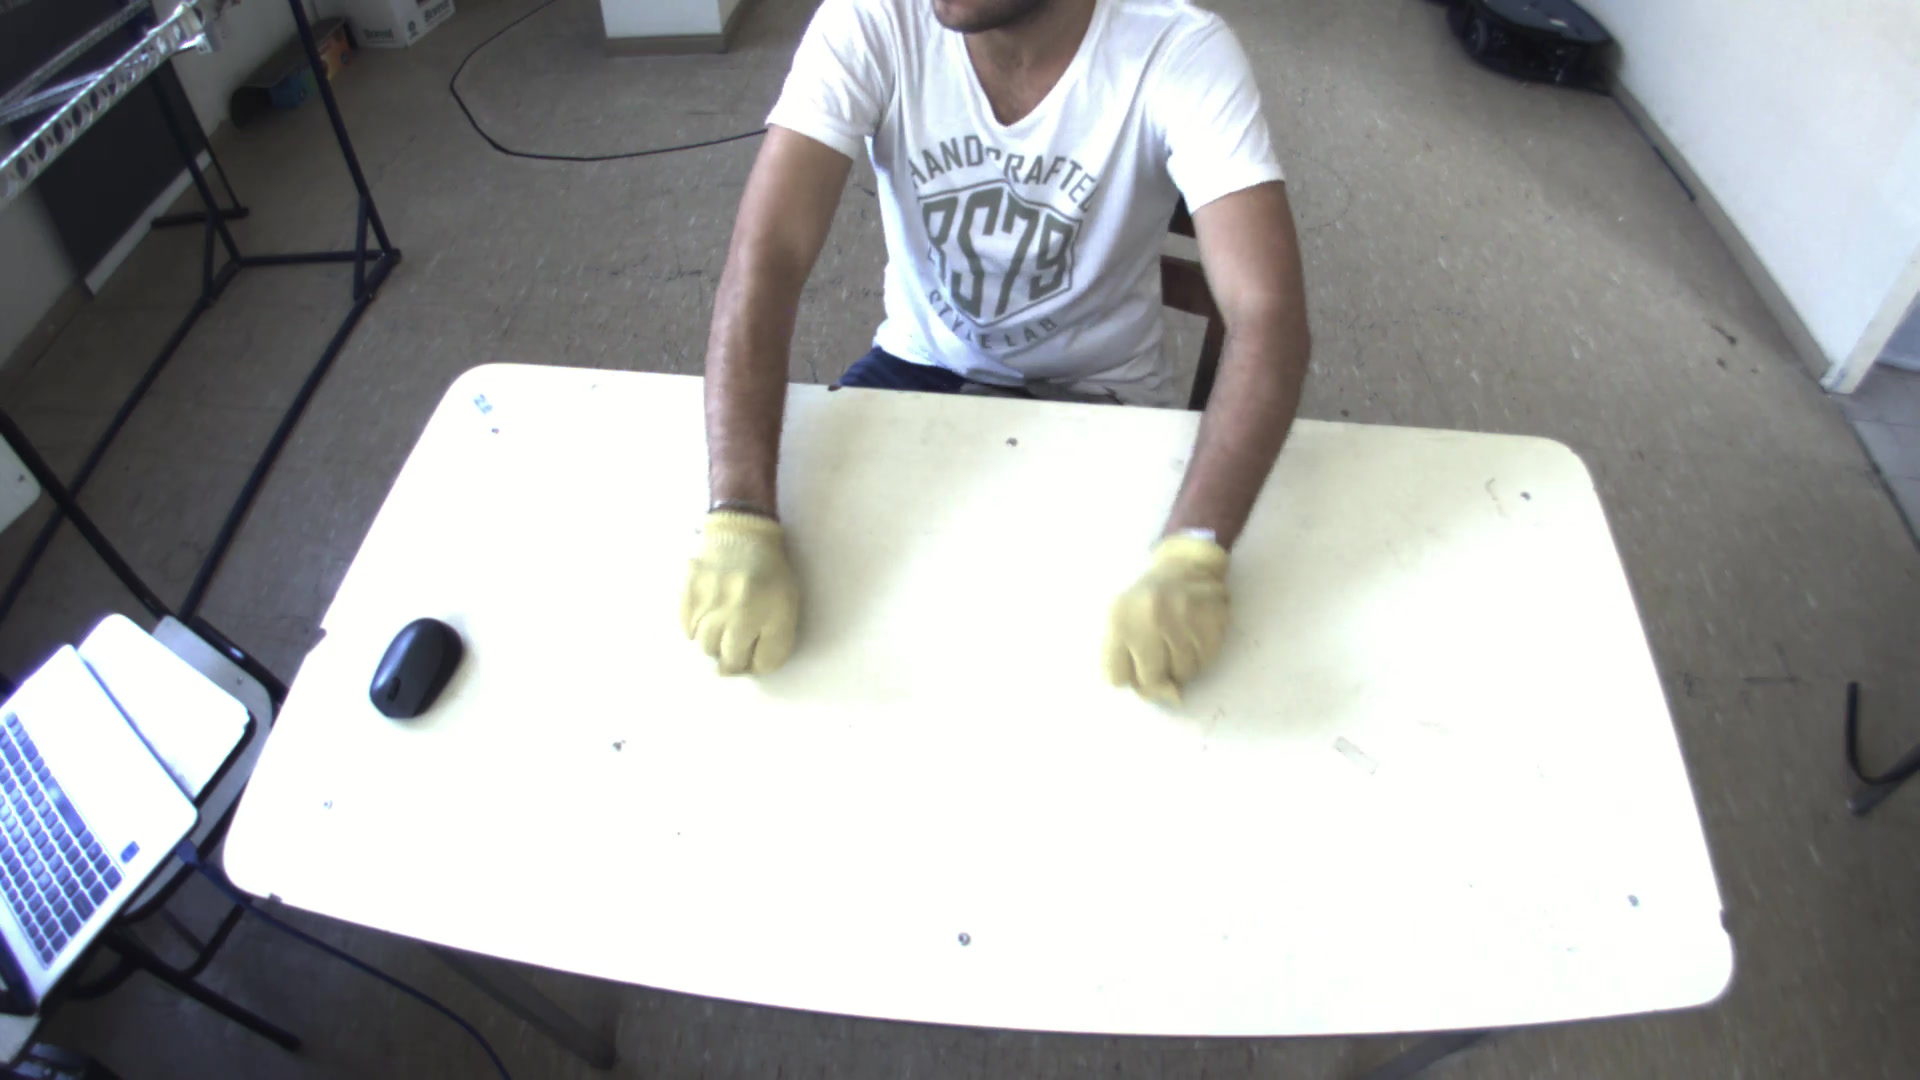hand: (663, 497, 818, 678), (1091, 524, 1246, 695)
